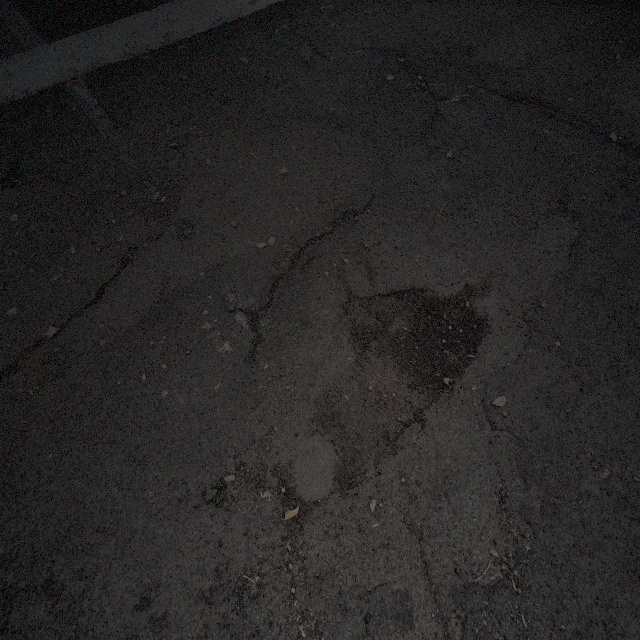pothole: (322, 278, 491, 494)
